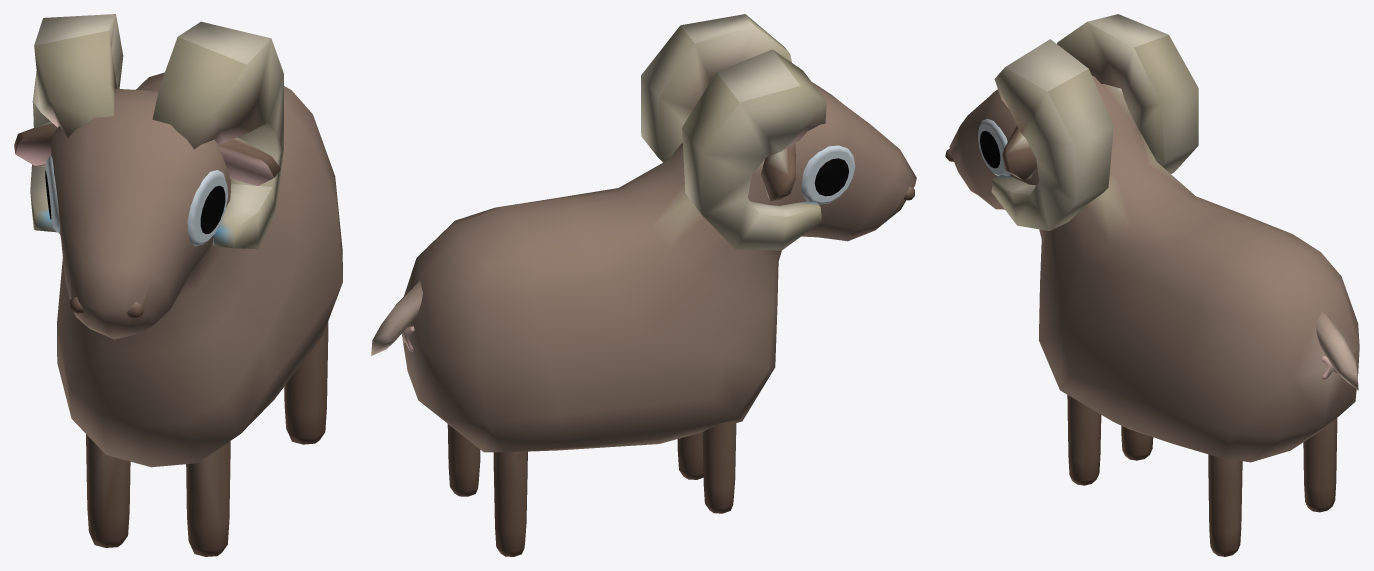
File: Bighorn.glb
The picture shows the model from 3 angles, left to right: view 1: azimuth 30°, elevation 25°; view 2: azimuth 150°, elevation 25°; view 3: azimuth 270°, elevation 25°; orthographic projection. The views are drawn at different scales.
Visible parts, largest first — view 1: 14; view 2: 14; view 3: 14.
Part boxes in pixels (<box>): 14: <box>14,14,342,556</box>; 14: <box>371,14,916,556</box>; 14: <box>945,14,1359,556</box>.
Size of the model in its own units: 0.7872 by 0.9474 by 0.8397.
